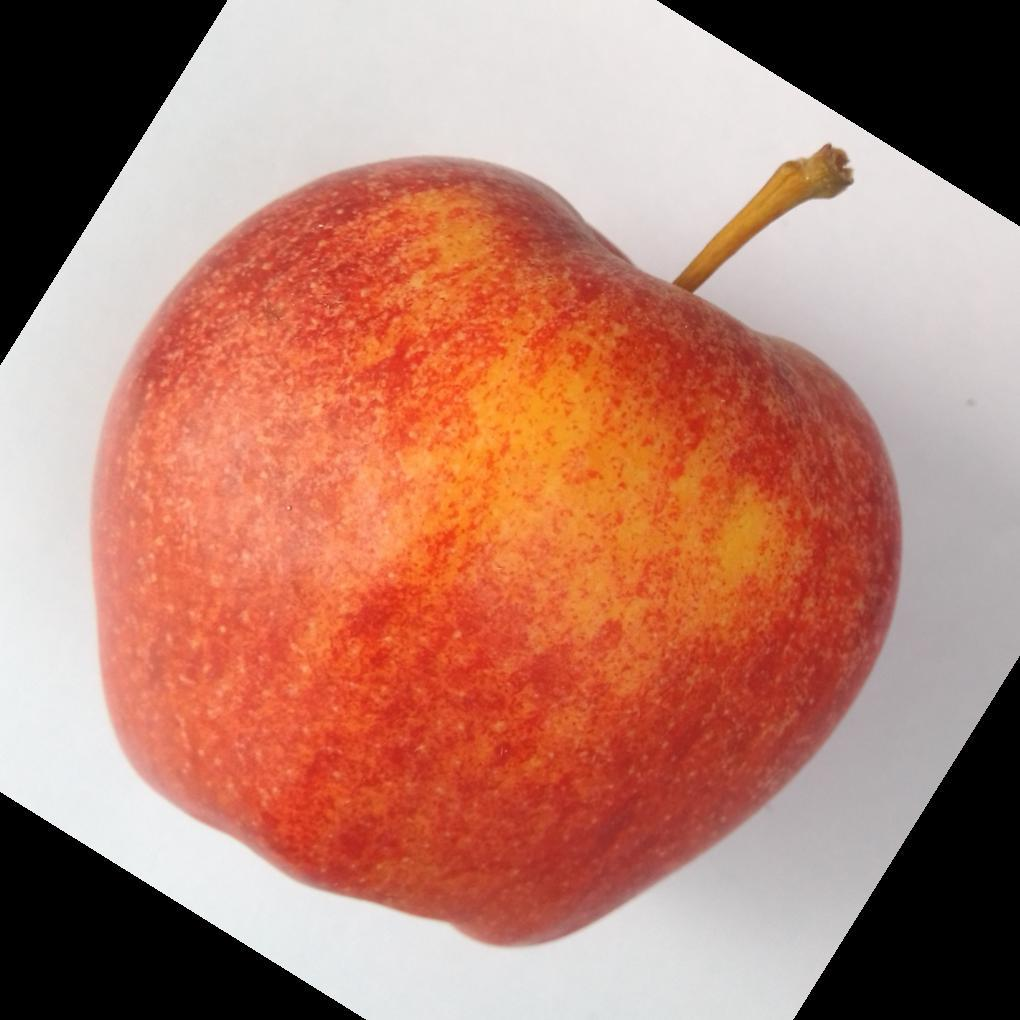FreshGuava: (84, 157, 903, 952)
